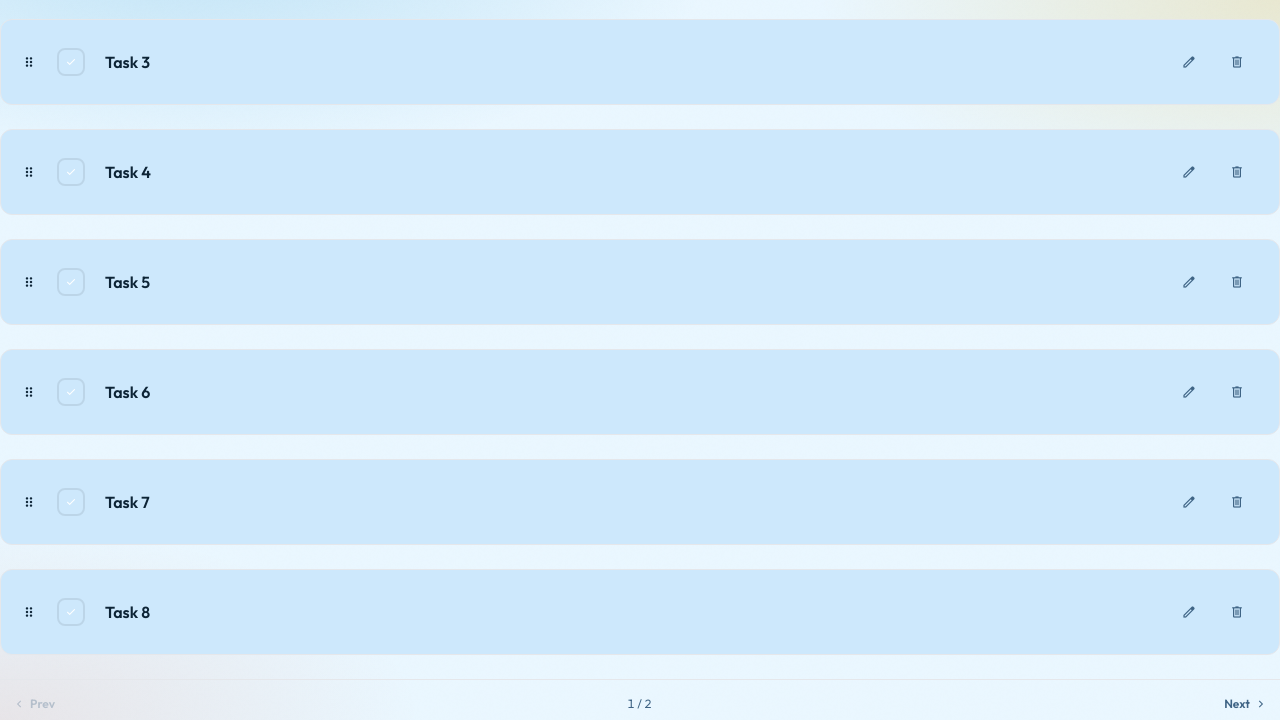
Test: pagination › navigates to the next page showing tasks beyond the first 8
This screenshot has width=1280, height=720.
(page scrolled)
Check: the text "Task 9" is not shown
Click the button "Next" at x=1246, y=704, box [1212,688,1279,719]
(page scrolled)
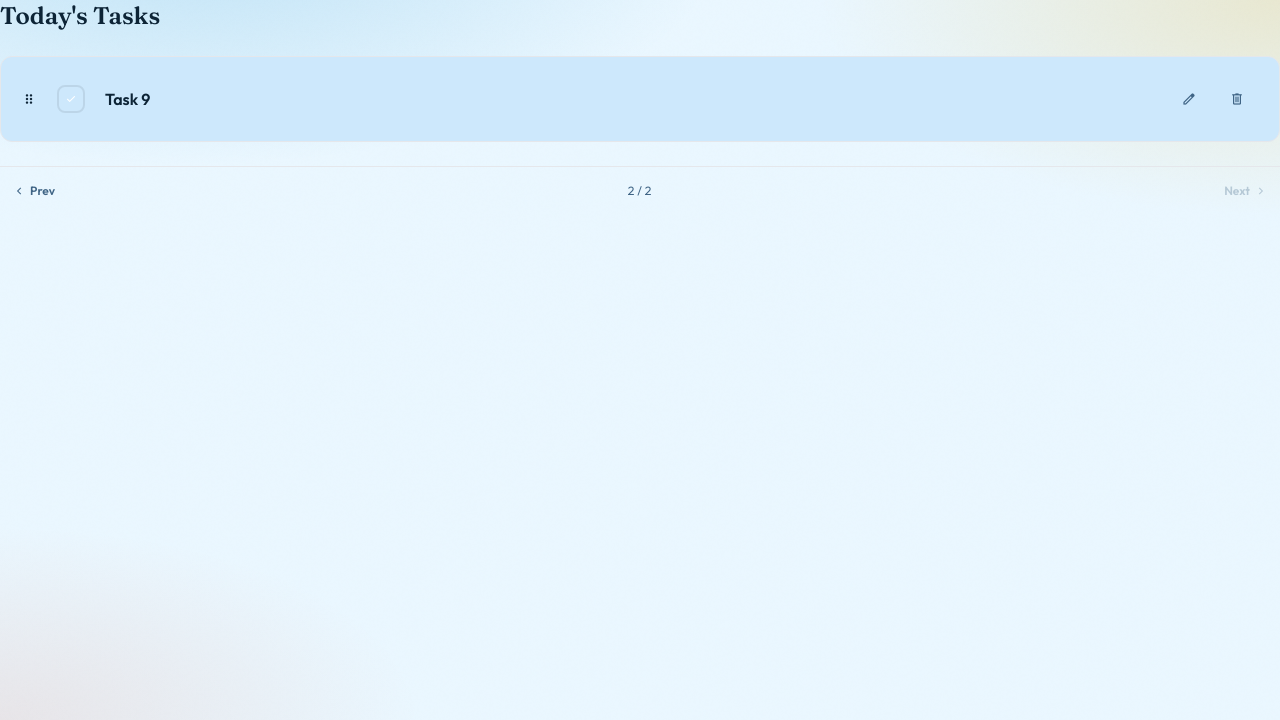
Check: the button "Task 9" is shown, box [105,87,1147,111]
